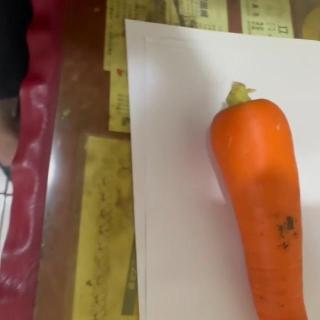carrot: (208, 81, 313, 320)
